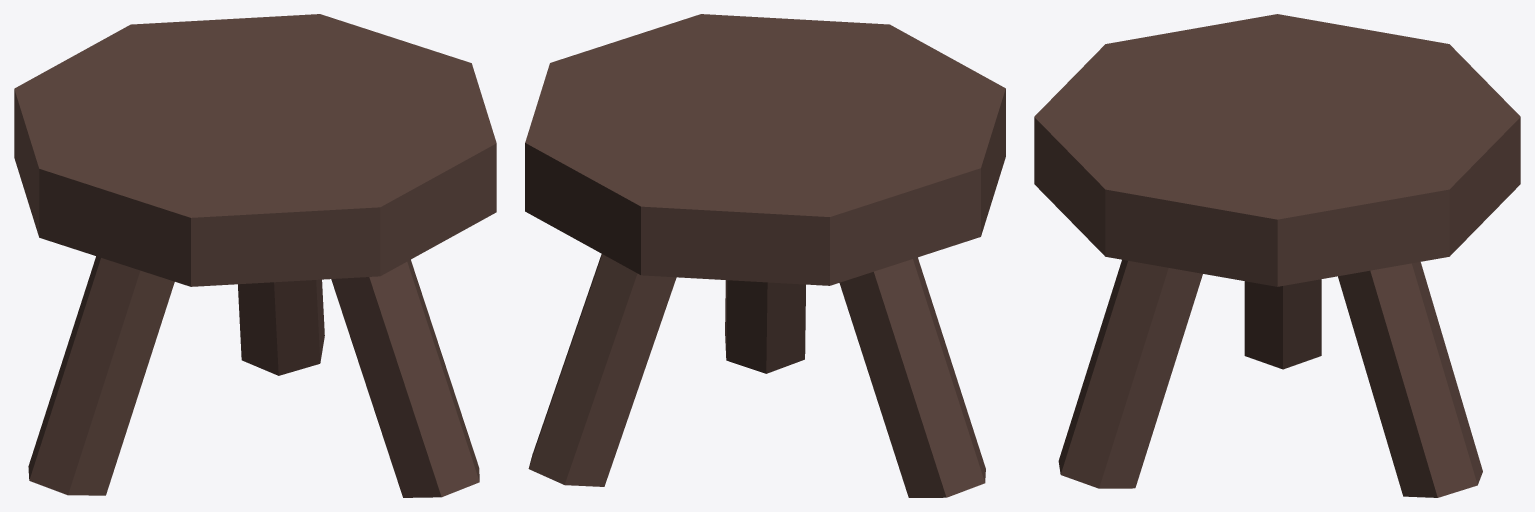
Rendered from Stool.fbx.
3 views of the same model, side by side, from view 1: azimuth 30°, elevation 25°; view 2: azimuth 150°, elevation 25°; view 3: azimuth 270°, elevation 25° (orthographic). The views are drawn at different scales.
Parts seen in each view (by area): view 1: pCylinder5; view 2: pCylinder5; view 3: pCylinder5.
Part boxes in pixels (x1,y1,x2,y2): pCylinder5: (14, 14, 496, 497); pCylinder5: (525, 14, 1005, 497); pCylinder5: (1034, 14, 1520, 497).
Bounding box in the file's own units: 0.9809 × 0.7064 × 0.965.
Materials: 1 (1 with a texture image).
